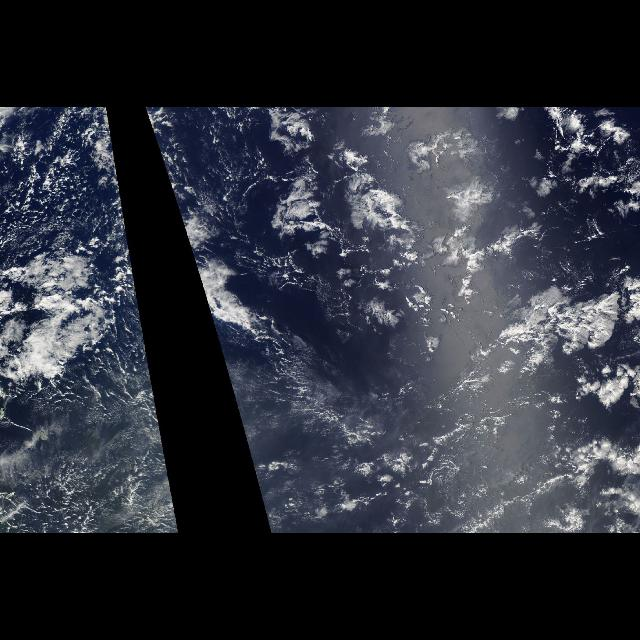Flower: (248, 112, 546, 316)
